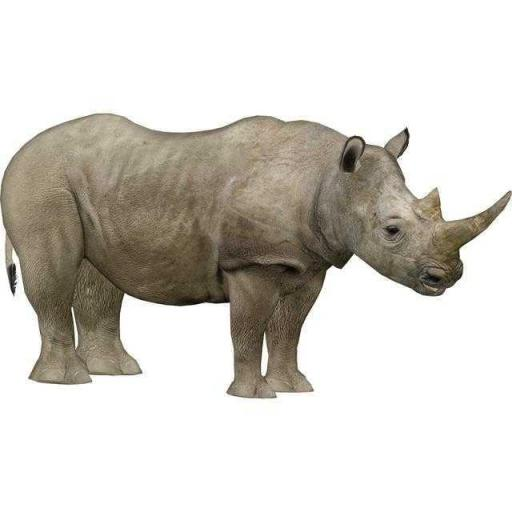Rhino: (0, 110, 510, 398)
